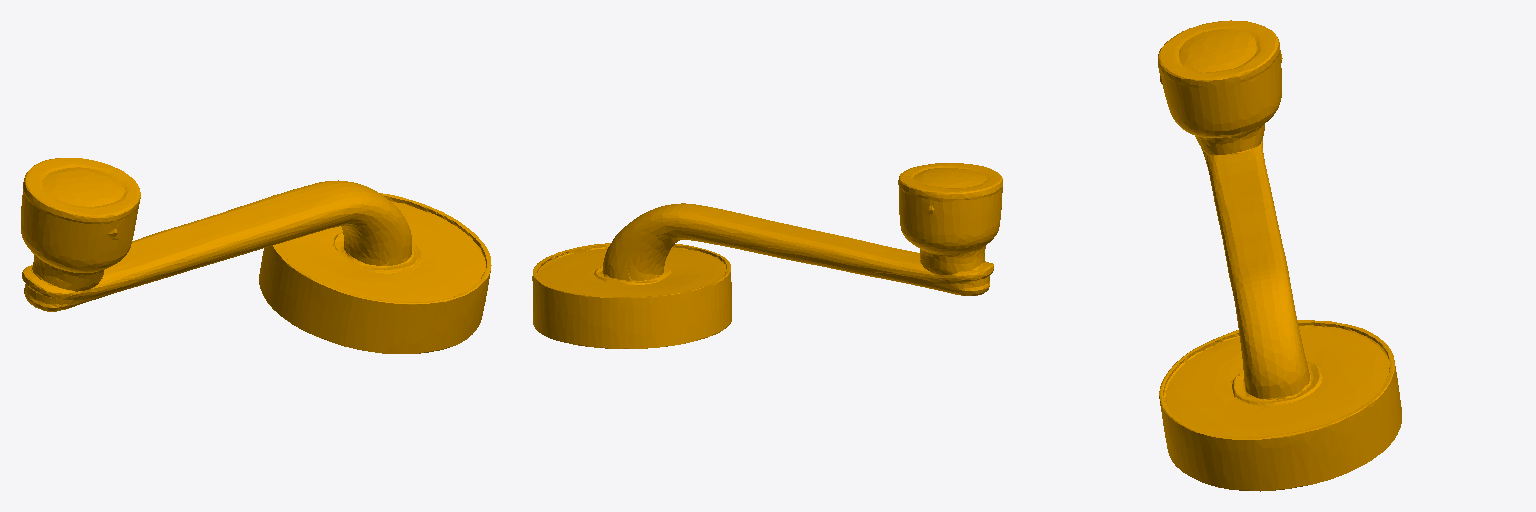
The robot description file, URDF, robot "grindhandle":
<?xml version="1.0" ?>
<!-- auto-generated by gen_object_urdf.py (TactiDex import) -->
<robot name="grindhandle">
  <link name="bottom">
    <inertial>
      <origin rpy="0 0 0" xyz="0.001854593 -0.0029737014 0.00026349257"/>
      <mass value="0.3"/>
      <inertia ixx="8.960058e-05" ixy="-3.2184533e-05" ixz="8.9062779e-05"
               iyy="0.00032037507" iyz="9.8633707e-06" izz="0.00030906655"/>
    </inertial>
    <visual>
      <origin rpy="0 0 0" xyz="0 0 0"/>
      <geometry><mesh filename="GrindHandle.obj" scale="1 1 1"/></geometry>
    </visual>
      <collision>
        <origin rpy="0 0 0" xyz="0 0 0"/>
        <geometry><mesh filename="collision_parts/part_000.obj" scale="1 1 1"/></geometry>
      </collision>
      <collision>
        <origin rpy="0 0 0" xyz="0 0 0"/>
        <geometry><mesh filename="collision_parts/part_001.obj" scale="1 1 1"/></geometry>
      </collision>
      <collision>
        <origin rpy="0 0 0" xyz="0 0 0"/>
        <geometry><mesh filename="collision_parts/part_002.obj" scale="1 1 1"/></geometry>
      </collision>
      <collision>
        <origin rpy="0 0 0" xyz="0 0 0"/>
        <geometry><mesh filename="collision_parts/part_003.obj" scale="1 1 1"/></geometry>
      </collision>
      <collision>
        <origin rpy="0 0 0" xyz="0 0 0"/>
        <geometry><mesh filename="collision_parts/part_004.obj" scale="1 1 1"/></geometry>
      </collision>
      <collision>
        <origin rpy="0 0 0" xyz="0 0 0"/>
        <geometry><mesh filename="collision_parts/part_005.obj" scale="1 1 1"/></geometry>
      </collision>
      <collision>
        <origin rpy="0 0 0" xyz="0 0 0"/>
        <geometry><mesh filename="collision_parts/part_006.obj" scale="1 1 1"/></geometry>
      </collision>
      <collision>
        <origin rpy="0 0 0" xyz="0 0 0"/>
        <geometry><mesh filename="collision_parts/part_007.obj" scale="1 1 1"/></geometry>
      </collision>
      <collision>
        <origin rpy="0 0 0" xyz="0 0 0"/>
        <geometry><mesh filename="collision_parts/part_008.obj" scale="1 1 1"/></geometry>
      </collision>
      <collision>
        <origin rpy="0 0 0" xyz="0 0 0"/>
        <geometry><mesh filename="collision_parts/part_009.obj" scale="1 1 1"/></geometry>
      </collision>
  </link>
</robot>

--- What the picture shows (computed from the rendered views, not written in the file) ---
3 views of the same robot in one strip: view 1: azimuth 30°, elevation 25°; view 2: azimuth 150°, elevation 25°; view 3: azimuth 270°, elevation 25° (orthographic).
Robot: grindhandle — 1 links, 0 joints (none); root link bottom; default pose: all joints at 0.
Visible links, largest first — view 1: bottom; view 2: bottom; view 3: bottom.
Link boxes in pixels (left/top/right/bottom): bottom: left=21, top=158, right=491, bottom=353; bottom: left=532, top=163, right=1002, bottom=348; bottom: left=1158, top=20, right=1401, bottom=491.
Bounding box of the posed robot: 0.1208 × 0.0525 × 0.0581 m (x, y, z).
Meshes: 1 distinct files referenced, 1 mesh visuals loaded (1 OBJ).
